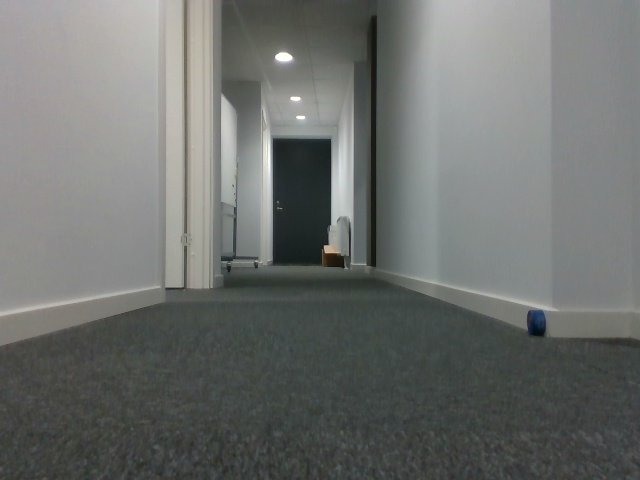alfa: (525, 308, 548, 338)
